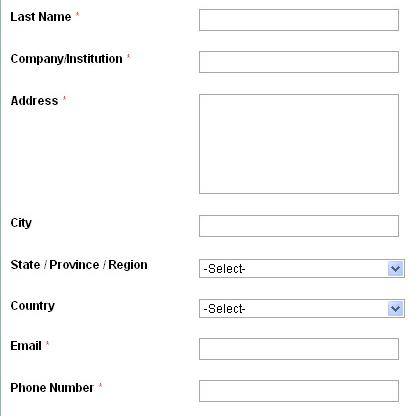field: (196, 93, 400, 195), (195, 213, 399, 238), (194, 337, 400, 361), (196, 8, 399, 32), (194, 50, 400, 73), (195, 380, 400, 403), (199, 298, 406, 319), (197, 258, 406, 278)
field_with_label: (10, 91, 401, 197), (11, 211, 401, 240), (8, 335, 401, 362), (8, 378, 401, 405), (10, 48, 401, 75), (10, 7, 400, 33), (10, 256, 408, 280), (11, 296, 407, 320)
